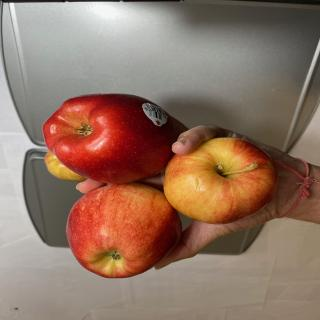Apple: (42, 93, 189, 185), (66, 182, 182, 279), (163, 137, 279, 224), (44, 150, 87, 182)
